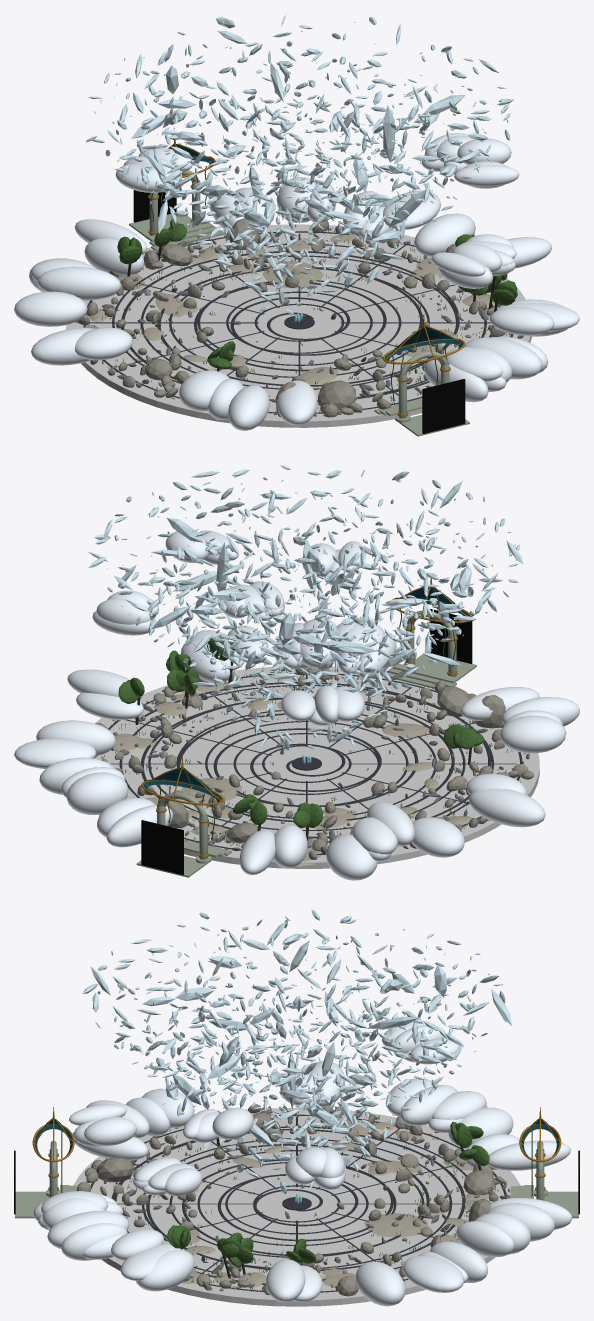
Rendered from AirChamber.obj.
3 views of the same model, one above another, from view 1: azimuth 30°, elevation 25°; view 2: azimuth 150°, elevation 25°; view 3: azimuth 270°, elevation 25° (orthographic). The views are drawn at different scales.
Parts seen in each view (by area): view 1: FloorPlate, SpiralInlay, CloudBank31, CloudBank23, DOOR_B_DarkPassage, CloudBank28, CloudBank22, CloudBank10, CloudBank8, CloudBank12, CloudBank32, CloudBank0 (+28 smaller); view 2: FloorPlate, SpiralInlay, CloudBank10, CloudBank16, CloudBank21, DOOR_A_DarkPassage, CloudBank1, CloudBank27, CloudBank23, CloudBank28, CloudBank17, CloudBank29 (+33 smaller); view 3: FloorPlate, SpiralInlay, CloudBank1, CloudBank28, CloudBank20, CloudBank26, CloudBank11, CloudBank15, CloudBank7, CloudBank8, CloudBank4, CloudBank31 (+37 smaller).
Part boxes in pixels (<box>): FloorPlate: <box>66,224,531,427</box>; SpiralInlay: <box>121,251,493,401</box>; CloudBank31: <box>37,266,121,300</box>; CloudBank23: <box>14,291,87,326</box>; DOOR_B_DarkPassage: <box>422,379,465,433</box>; CloudBank28: <box>414,213,475,256</box>; CloudBank22: <box>75,327,133,360</box>; CloudBank10: <box>31,328,95,365</box>; CloudBank8: <box>464,337,542,379</box>; CloudBank12: <box>228,385,269,430</box>; CloudBank32: <box>489,307,554,335</box>; CloudBank0: <box>276,380,317,425</box>; FloorPlate: <box>94,666,539,868</box>; SpiralInlay: <box>134,682,491,838</box>; CloudBank10: <box>468,788,545,827</box>; CloudBank16: <box>500,715,566,753</box>; CloudBank21: <box>66,772,128,814</box>; DOOR_A_DarkPassage: <box>141,820,183,874</box>; CloudBank1: <box>14,738,96,768</box>; CloudBank27: <box>326,834,377,880</box>; CloudBank23: <box>411,817,464,857</box>; CloudBank28: <box>36,720,115,755</box>; CloudBank17: <box>106,805,172,847</box>; CloudBank29: <box>76,692,143,720</box>; FloorPlate: <box>73,1108,520,1306</box>; SpiralInlay: <box>111,1129,465,1284</box>; CloudBank1: <box>403,1255,463,1292</box>; CloudBank28: <box>355,1261,405,1306</box>; CloudBank20: <box>488,1140,570,1170</box>; CloudBank26: <box>456,1221,514,1257</box>; CloudBank11: <box>136,1249,194,1291</box>; CloudBank15: <box>266,1259,305,1302</box>; CloudBank7: <box>61,1223,127,1260</box>; CloudBank8: <box>47,1211,129,1248</box>; CloudBank4: <box>430,1241,487,1282</box>; CloudBank31: <box>400,1085,457,1125</box>.
Size of what is drawn, in the model's own units: 49.22 by 22.75 by 49.66.
